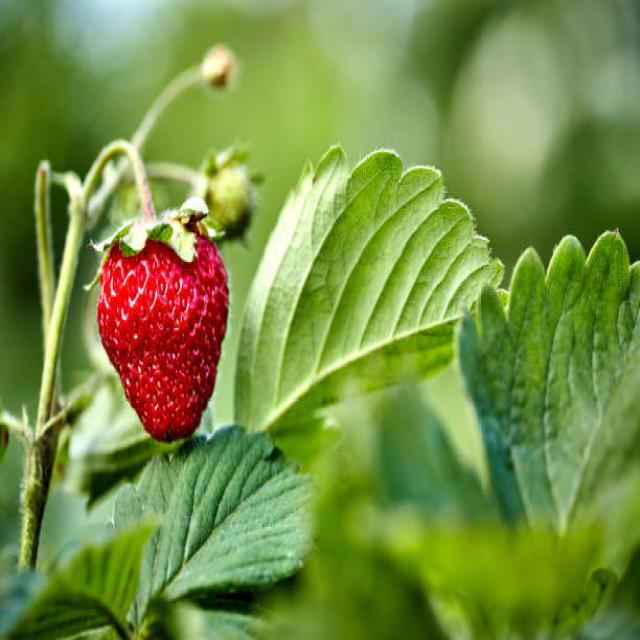Healthy Fruit: (95, 234, 229, 442)
